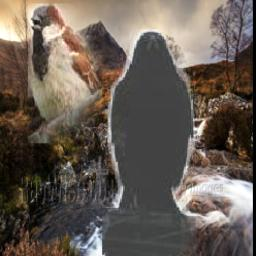Crow: (103, 29, 197, 256)
Sparrow: (28, 5, 102, 144)
